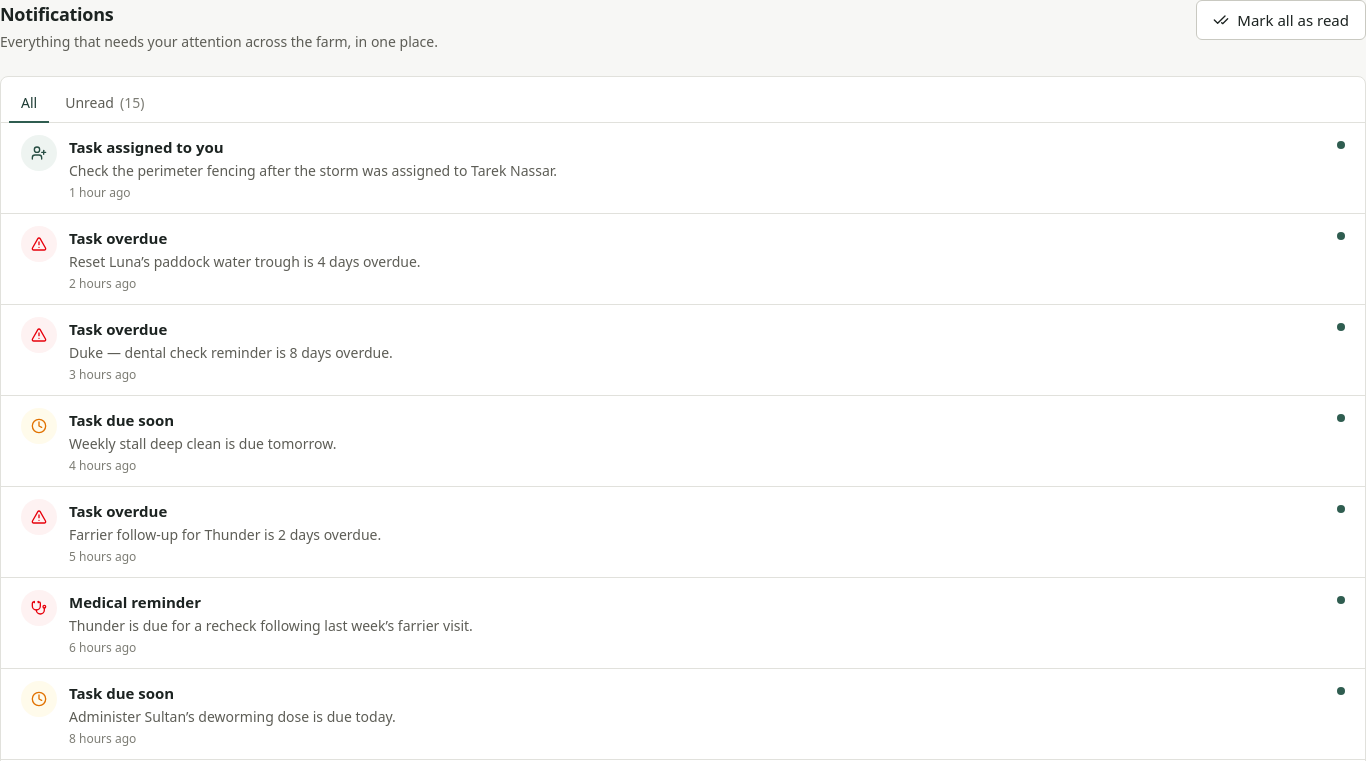
Scenario: NotificationListPage › marks all notifications read
Click the button "Mark all as read".
click(1281, 20)  # box 1196,0 -> 1365,40
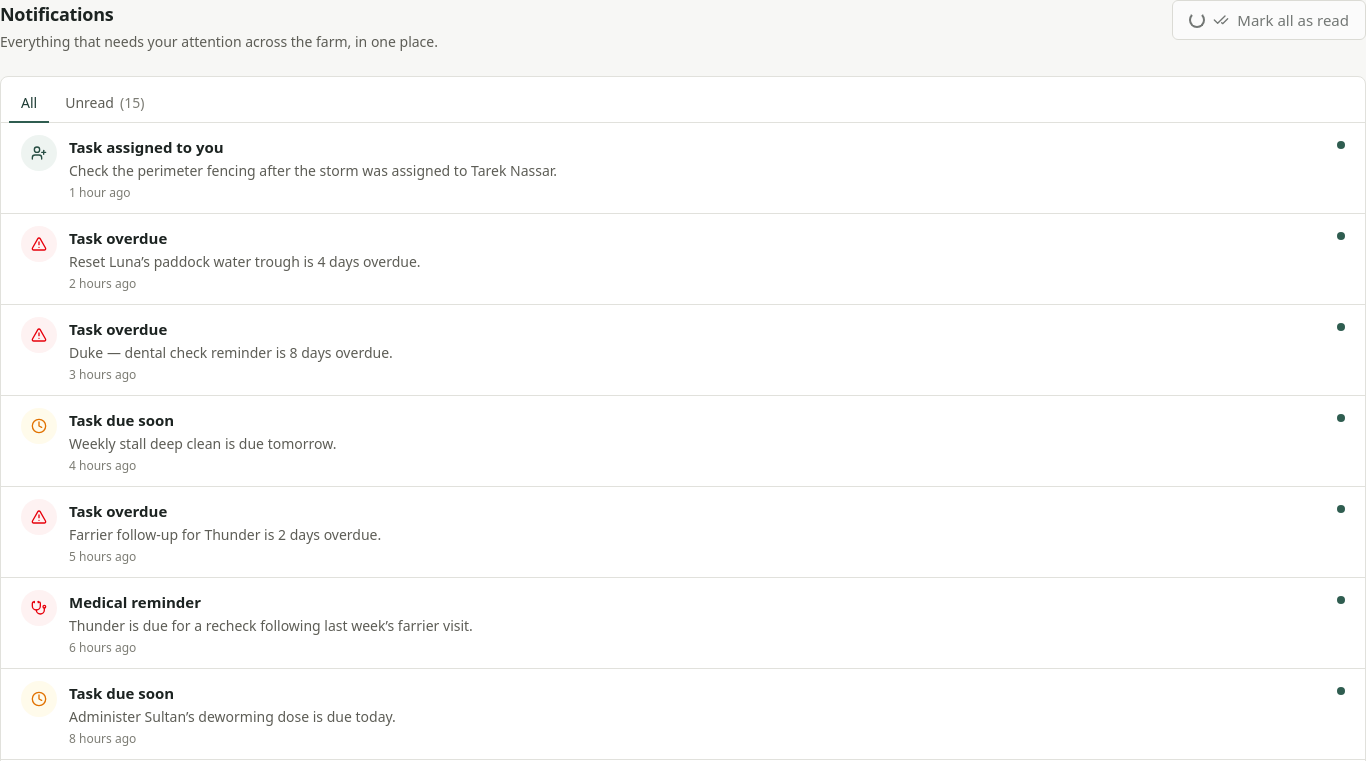
Click the tab "Unread(15)".
click(105, 104)  # box 53,85 -> 156,123
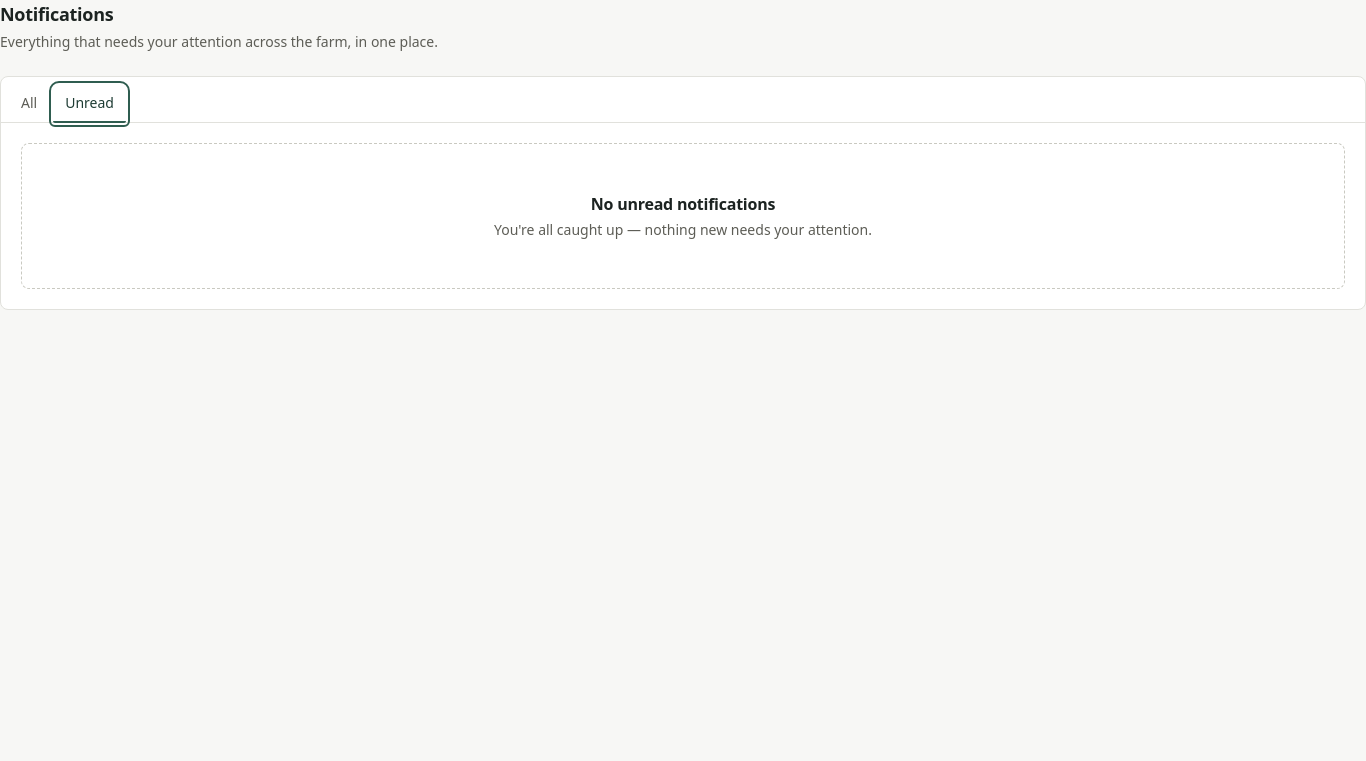
Result: the heading "No unread notifications" is shown at 591,193 -> 775,215
